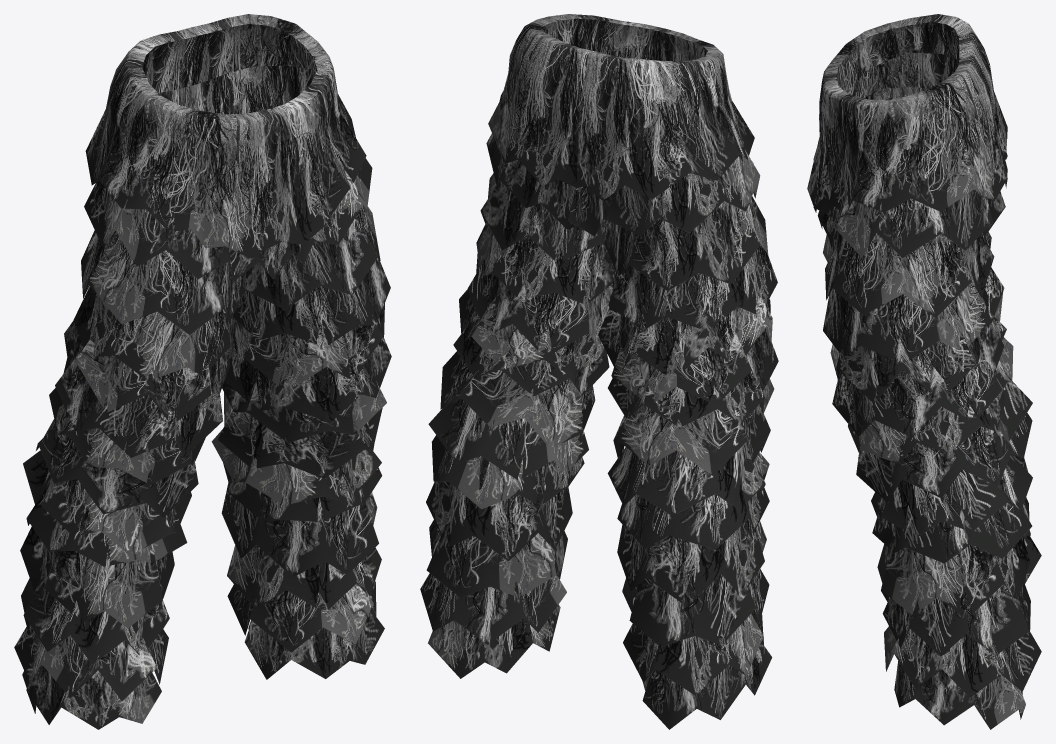
File: SurvivorMale_Legs_Pants_Ghillie_LOD0.glb
3 views of the same model, side by side, from view 1: azimuth 30°, elevation 25°; view 2: azimuth 150°, elevation 25°; view 3: azimuth 270°, elevation 25° (orthographic). The views are drawn at different scales.
Parts seen in each view (by area): view 1: Hoodie; view 2: Hoodie; view 3: Hoodie.
Part boxes in pixels (box(x1,y1,x2,y2)): Hoodie: box(14, 14, 391, 729); Hoodie: box(420, 14, 778, 729); Hoodie: box(807, 14, 1041, 729).
Bounding box in the file's own units: 0.5795 × 1.07 × 0.3665.
Materials: 1 (1 with a texture image).
